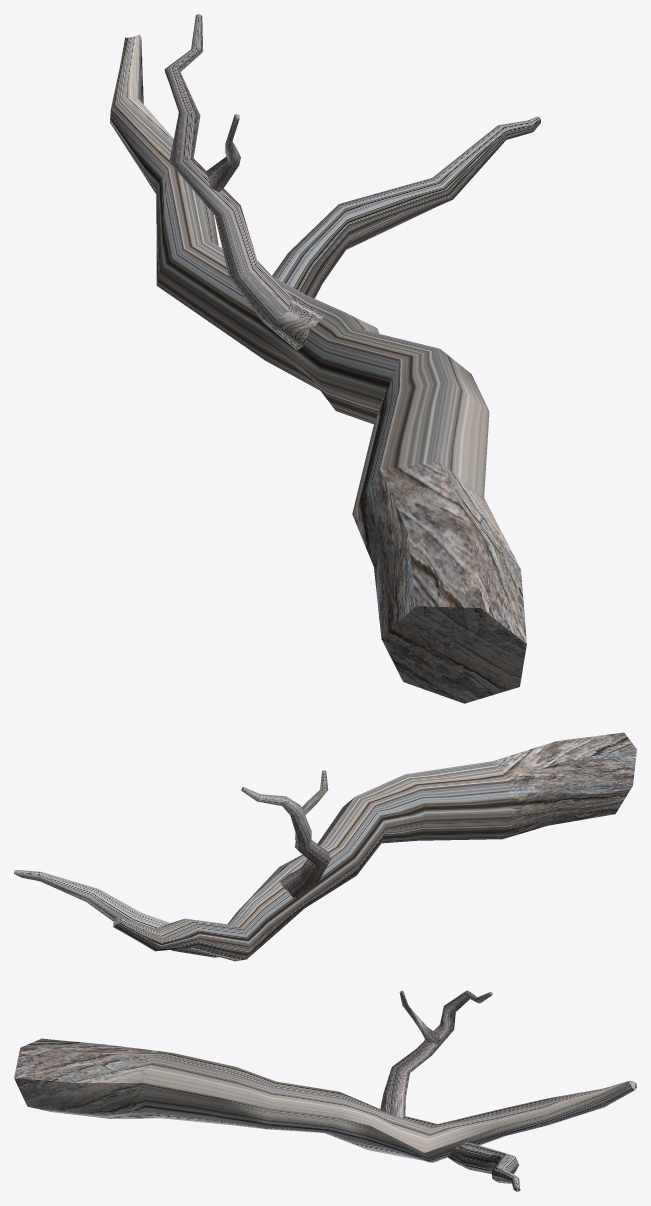
The model's file is FallenTreefbx.fbx.
The picture shows the model from 3 angles, top to bottom: view 1: azimuth 30°, elevation 25°; view 2: azimuth 150°, elevation 25°; view 3: azimuth 270°, elevation 25°; orthographic projection. The views are drawn at different scales.
Parts seen in each view (by area): view 1: Cylinder.022; view 2: Cylinder.022; view 3: Cylinder.022.
Boxes of the visible parts, bbox=[...] form: Cylinder.022: bbox=[110, 14, 540, 703]; Cylinder.022: bbox=[14, 732, 636, 961]; Cylinder.022: bbox=[14, 990, 636, 1191].
Bounding box in the file's own units: 511 × 258 × 898.
